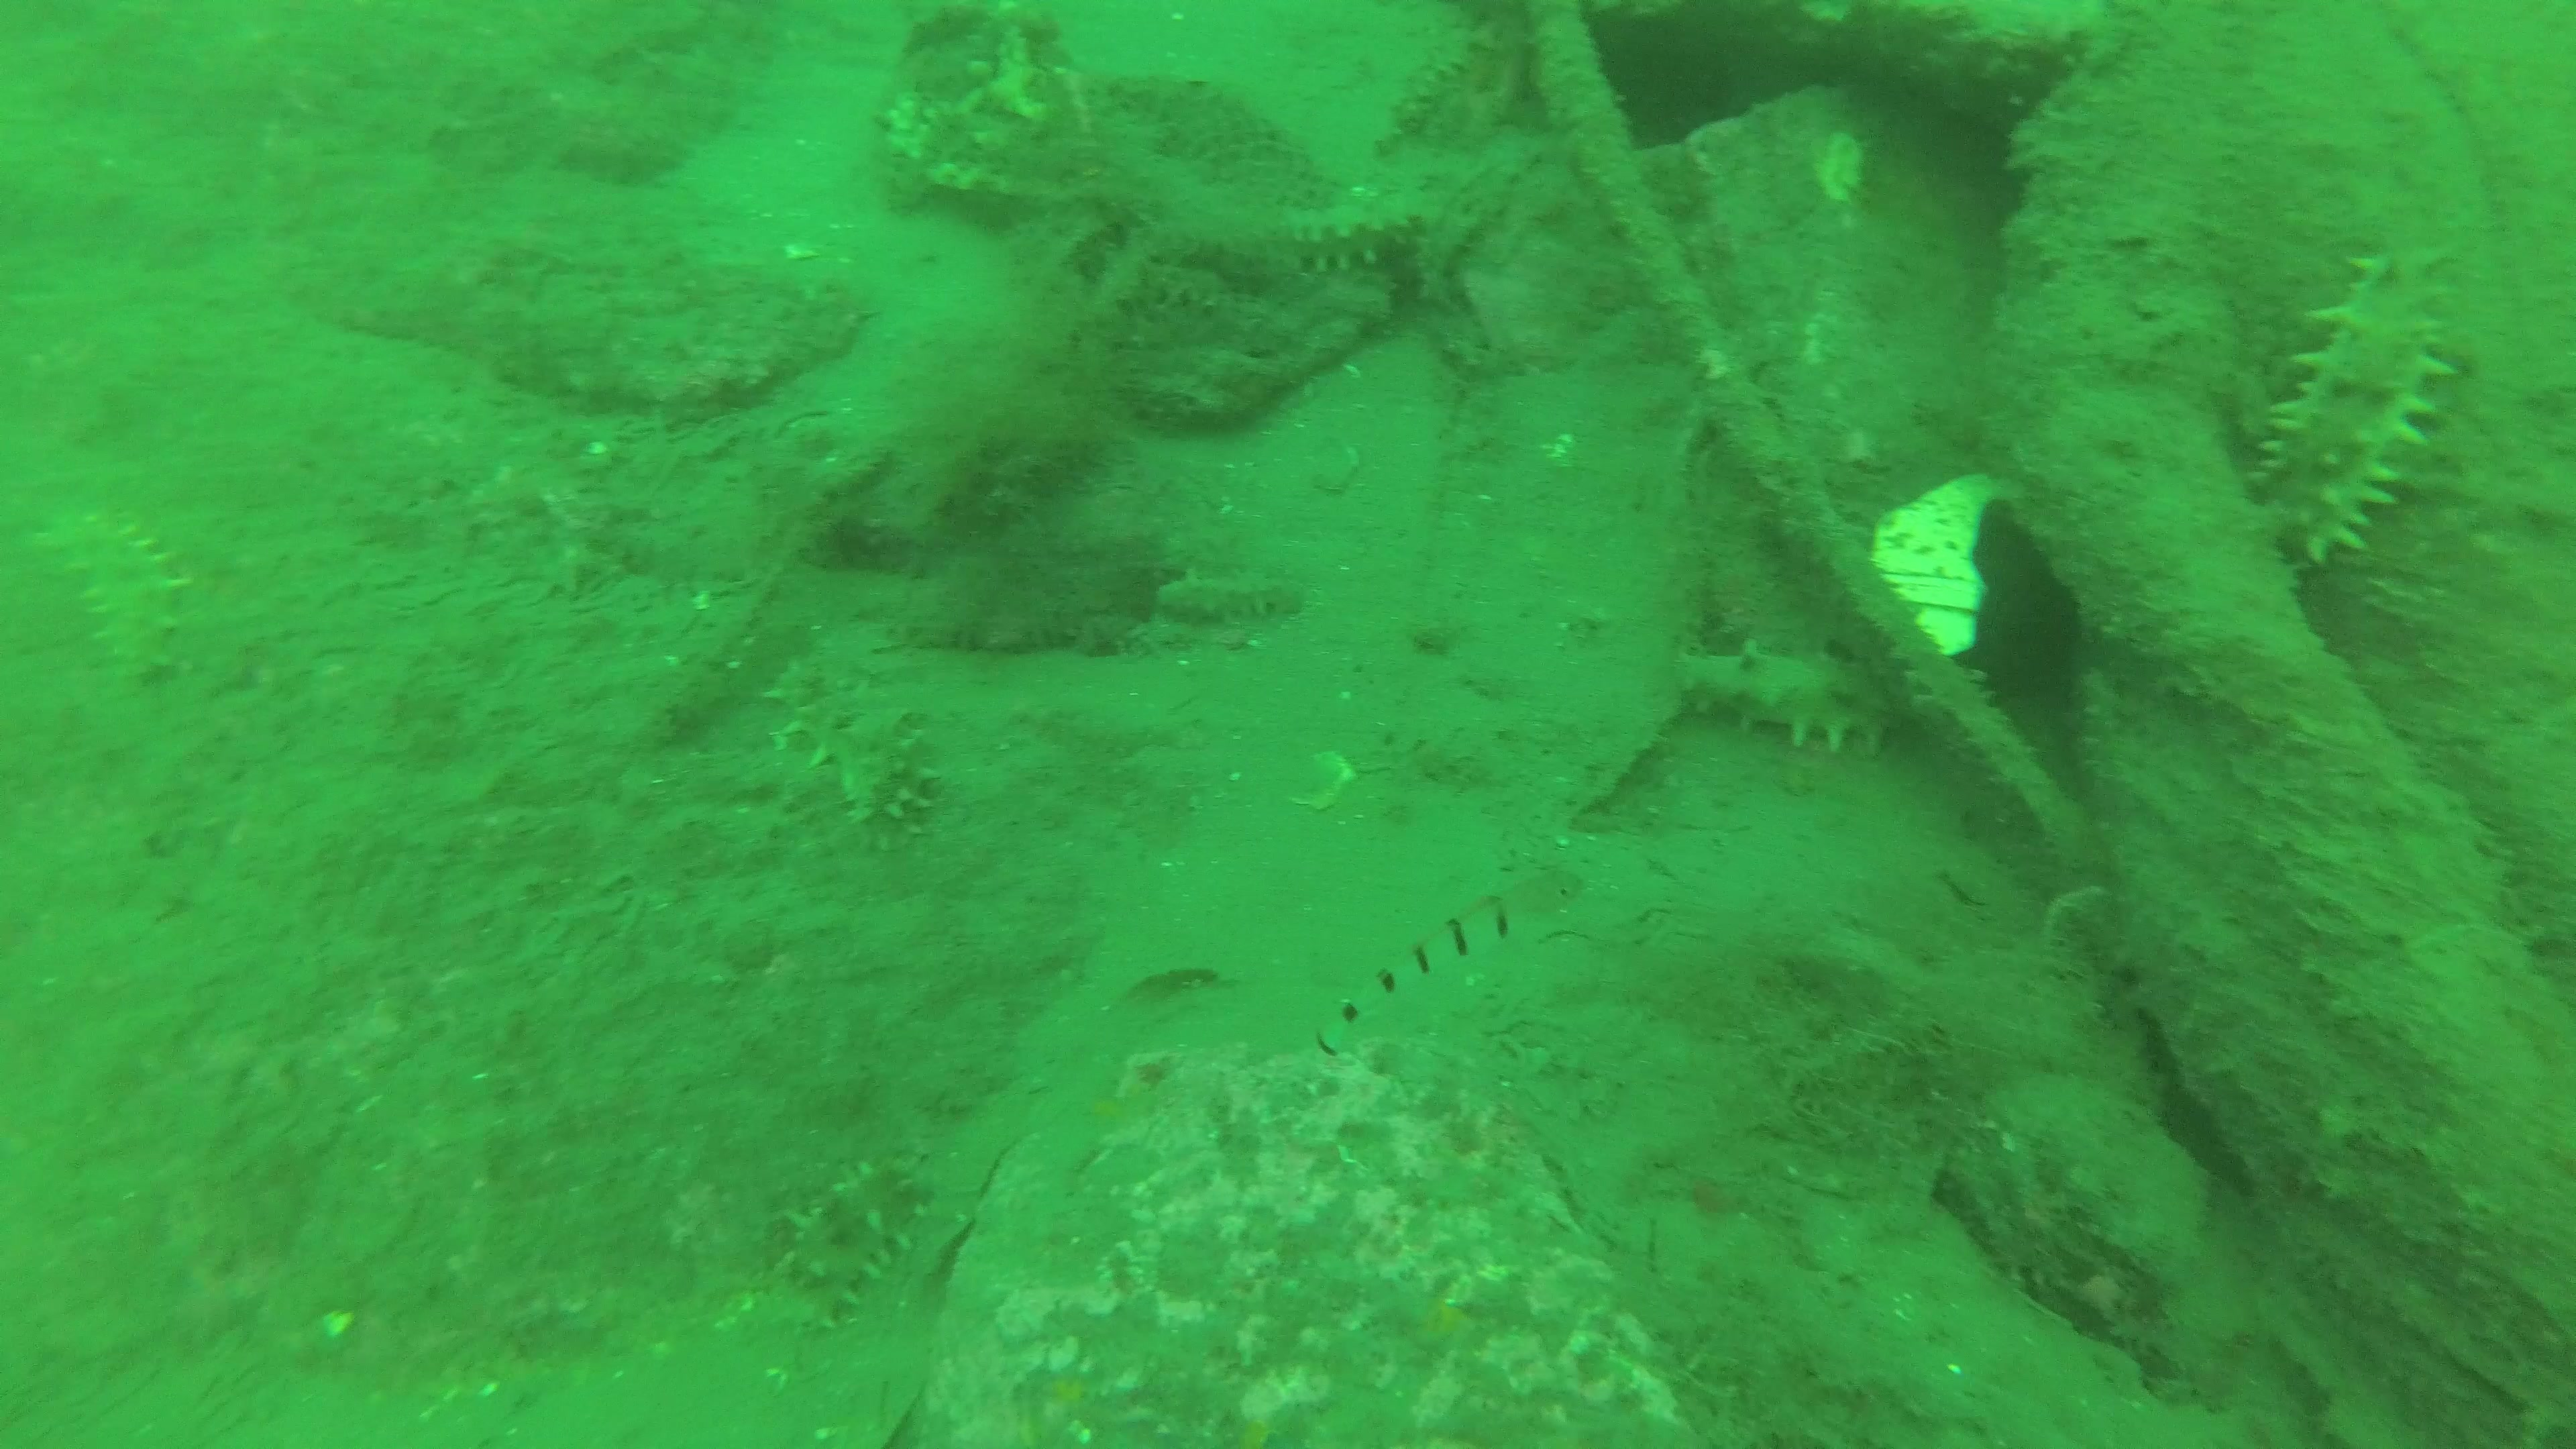holothurian: (2240, 239, 2456, 571), (736, 1159, 938, 1343), (766, 660, 943, 828), (28, 511, 189, 695), (1672, 640, 1916, 752), (1254, 209, 1431, 274), (1150, 568, 1306, 628)
